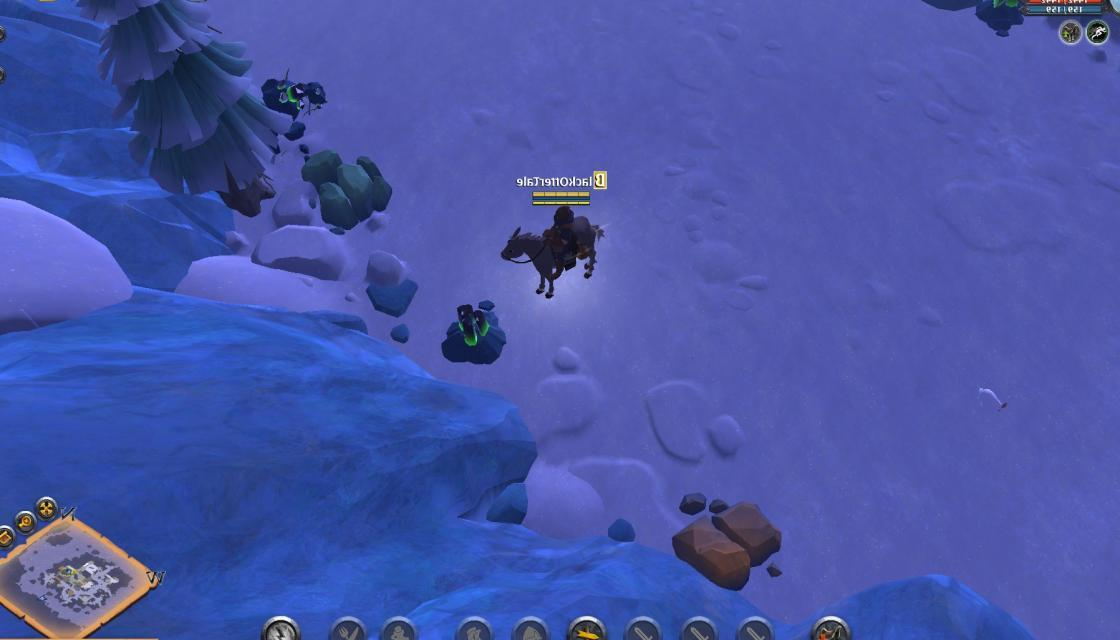limestone: (671, 498, 784, 592)
sandstone: (302, 149, 394, 231)
tinore: (436, 299, 510, 370), (968, 0, 1030, 29)
